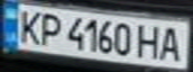0: (112, 20, 136, 56)
1: (81, 16, 100, 53)
4: (63, 15, 84, 51)
6: (96, 18, 115, 55)
A: (157, 24, 187, 62)
H: (136, 21, 163, 60)
K: (12, 7, 45, 45)
P: (36, 11, 66, 47)
